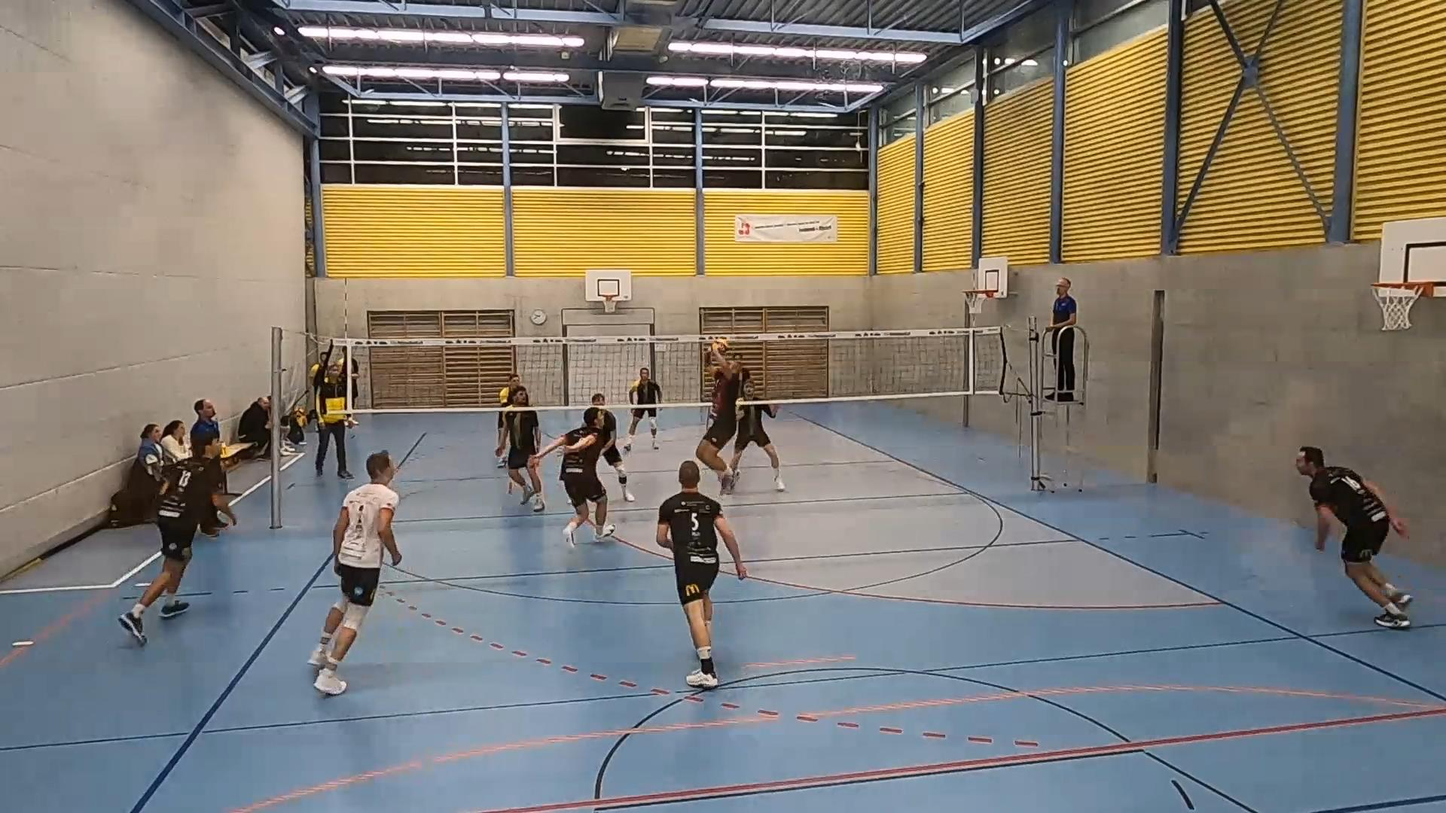Player: (118, 434, 236, 645), (309, 451, 401, 695), (1296, 447, 1411, 629), (656, 461, 746, 688), (535, 407, 615, 544), (496, 385, 545, 512), (730, 404, 785, 491), (591, 393, 634, 501), (623, 367, 661, 452), (499, 373, 520, 406)
Set: (693, 337, 751, 495)
